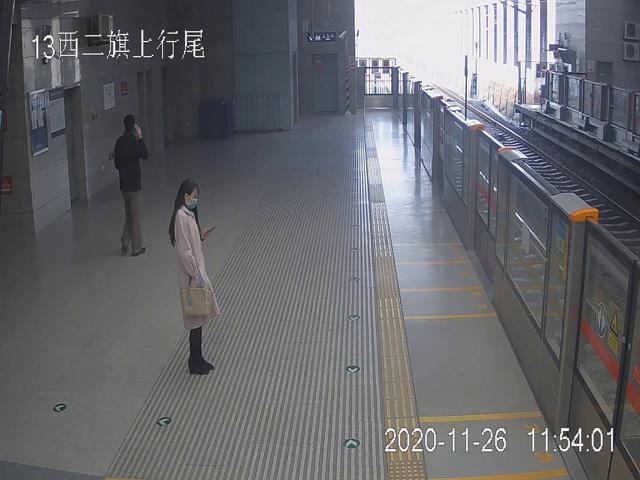person: (170, 177, 222, 375), (115, 114, 148, 256)
